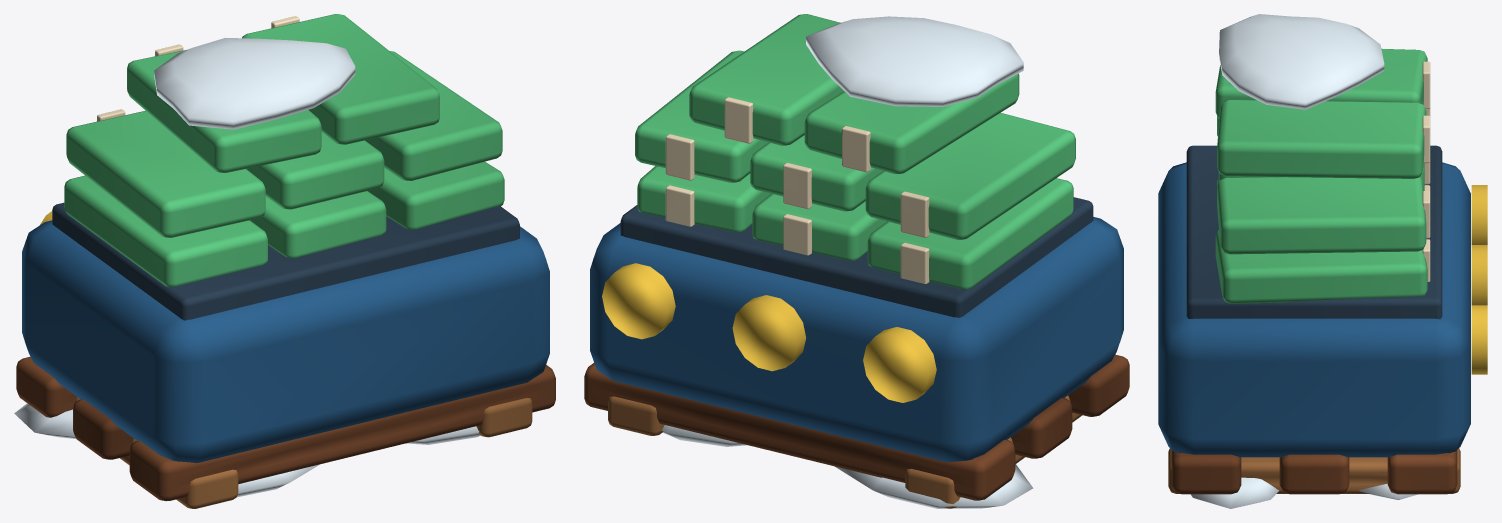
File: money_stack.glb
3 renders of one model, left to right at view 1: azimuth 30°, elevation 25°; view 2: azimuth 150°, elevation 25°; view 3: azimuth 270°, elevation 25°, orthographic. The views are drawn at different scales.
Parts seen in each view (by area): view 1: money_stack; view 2: money_stack; view 3: money_stack.
Part boxes in pixels (x1,y1,x2,y2): money_stack: (14, 14, 555, 508); money_stack: (584, 14, 1129, 508); money_stack: (1158, 14, 1487, 508).
Size of the model in its own units: 1.32 by 1.15 by 0.9275.
